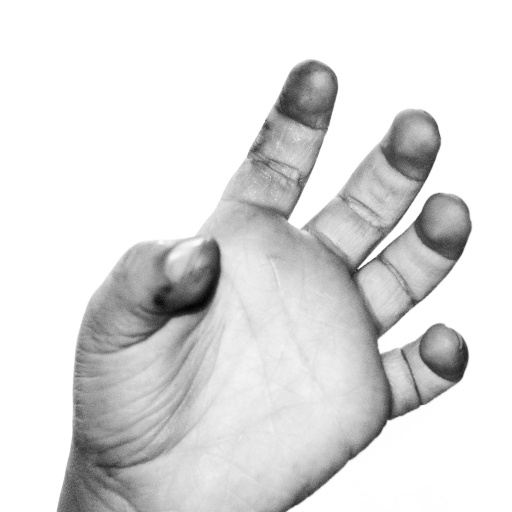hand: (76, 59, 468, 511)
